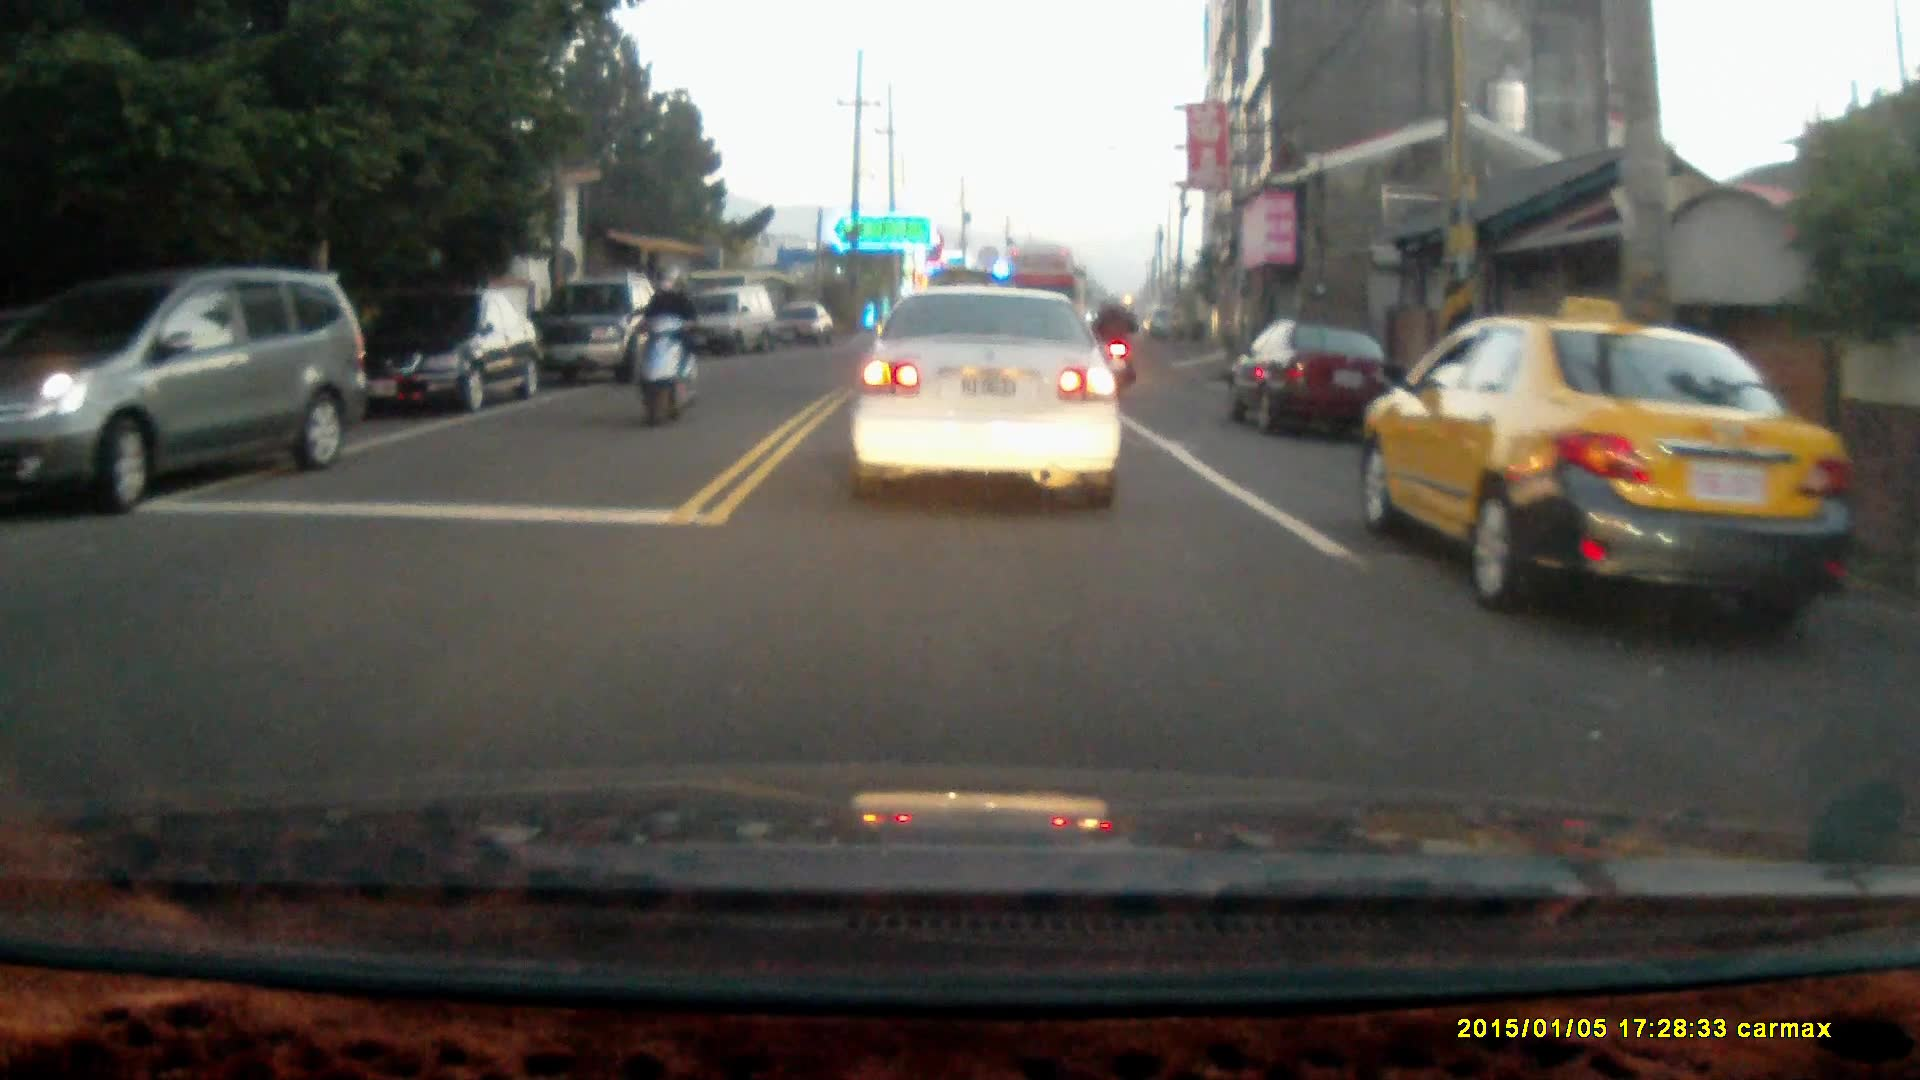rider: (626, 260, 697, 428), (1084, 289, 1140, 405)
vehicle: (1354, 319, 1862, 627), (1, 267, 367, 526), (851, 286, 1126, 510), (347, 288, 543, 414), (1230, 320, 1404, 436), (529, 271, 677, 390), (678, 286, 778, 358), (764, 304, 838, 354)
